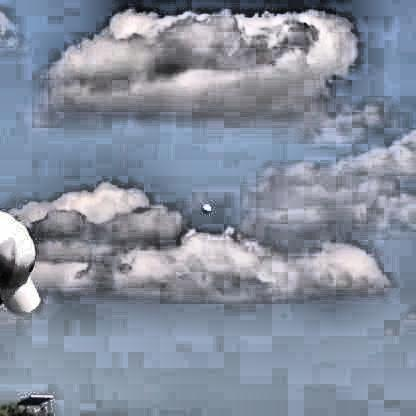golfball: (201, 202, 212, 214)
